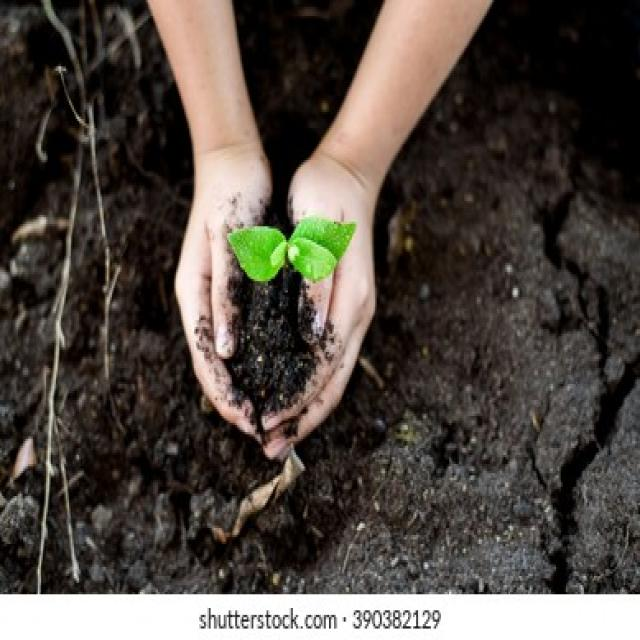Black Soil: (422, 195, 608, 575), (37, 128, 162, 514)
